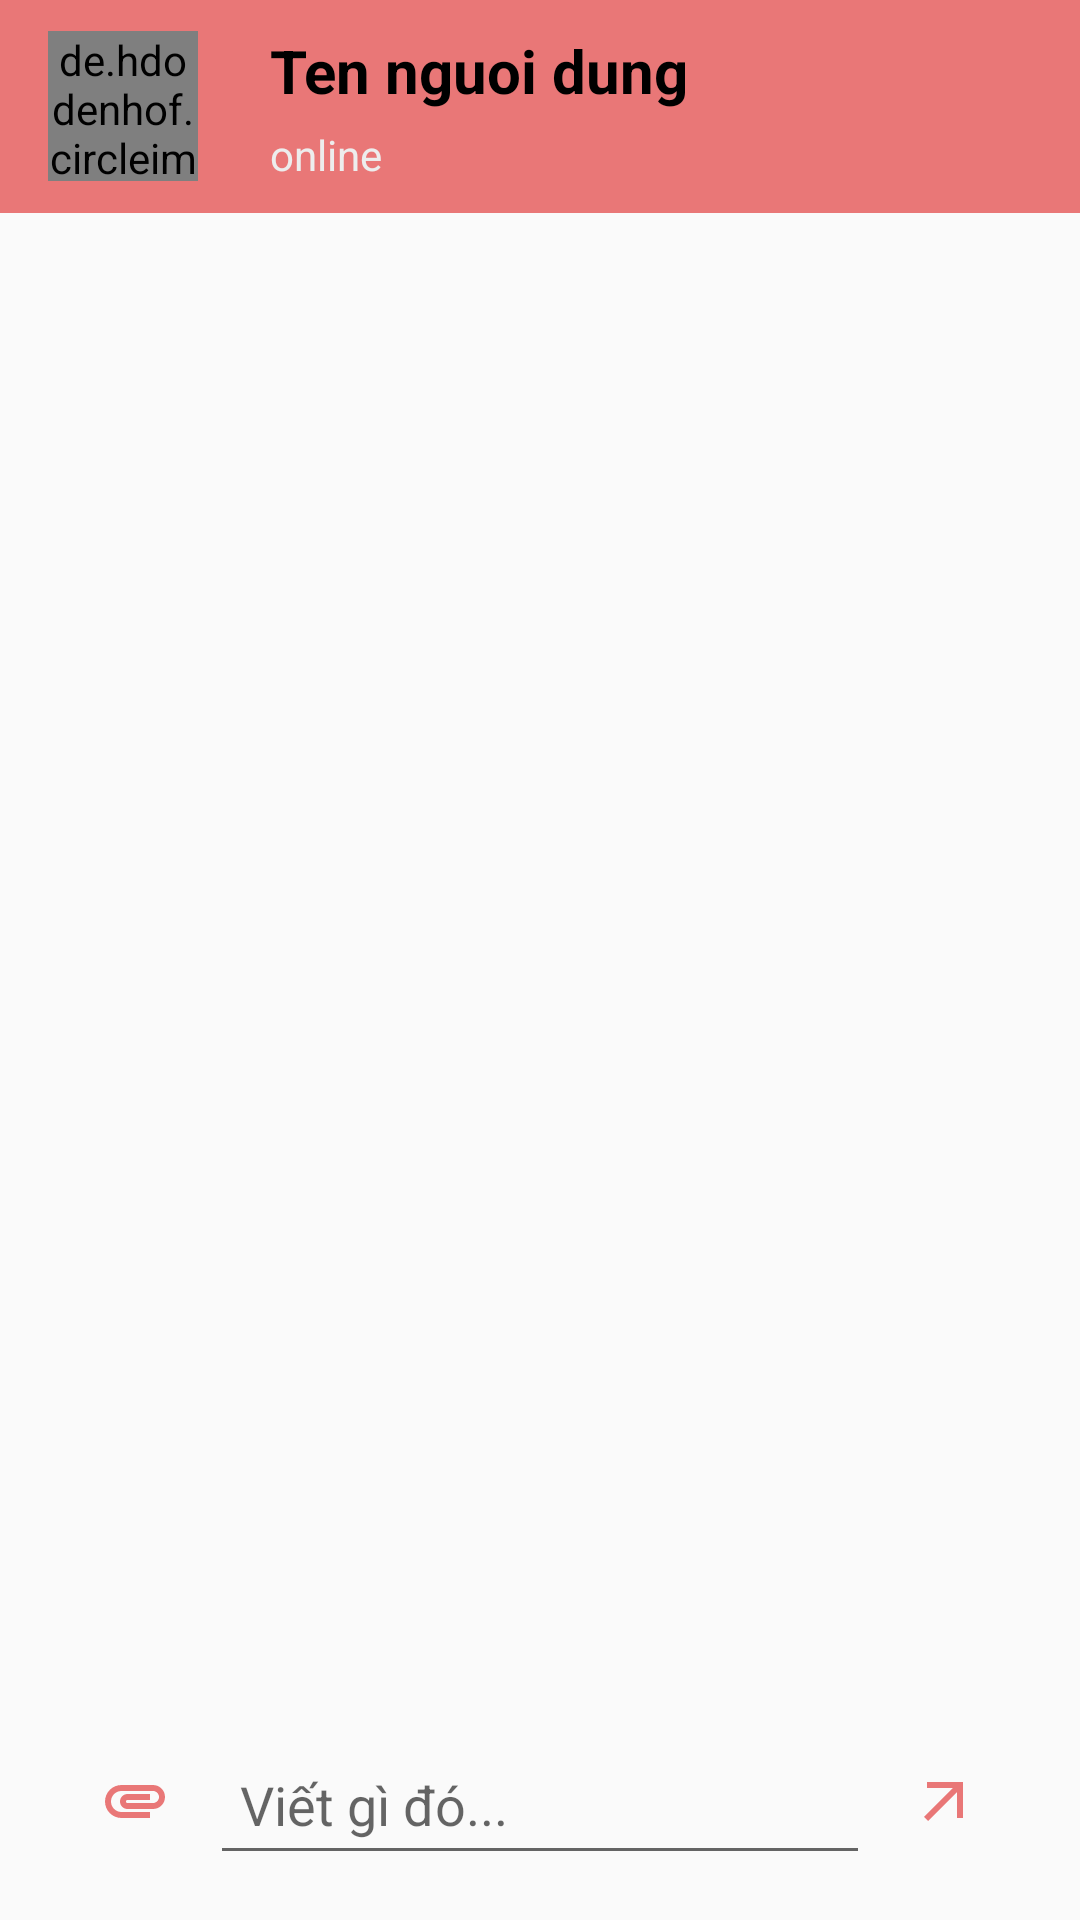

Where to tap for icons on this 1080×1920 app screen, as (x,y):
attatch: (135,1801)
send: (943,1801)
